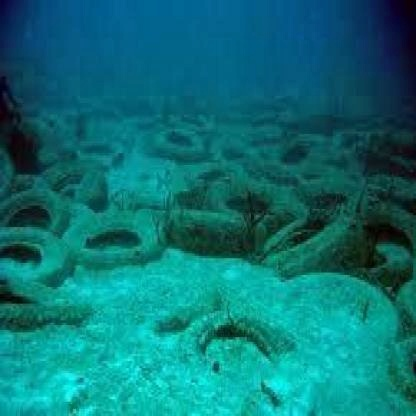tire: (268, 254, 403, 376), (176, 299, 296, 390), (60, 199, 174, 270), (307, 163, 415, 234), (164, 193, 260, 260), (3, 218, 82, 289), (267, 129, 327, 179), (2, 186, 63, 230), (154, 125, 206, 156)
